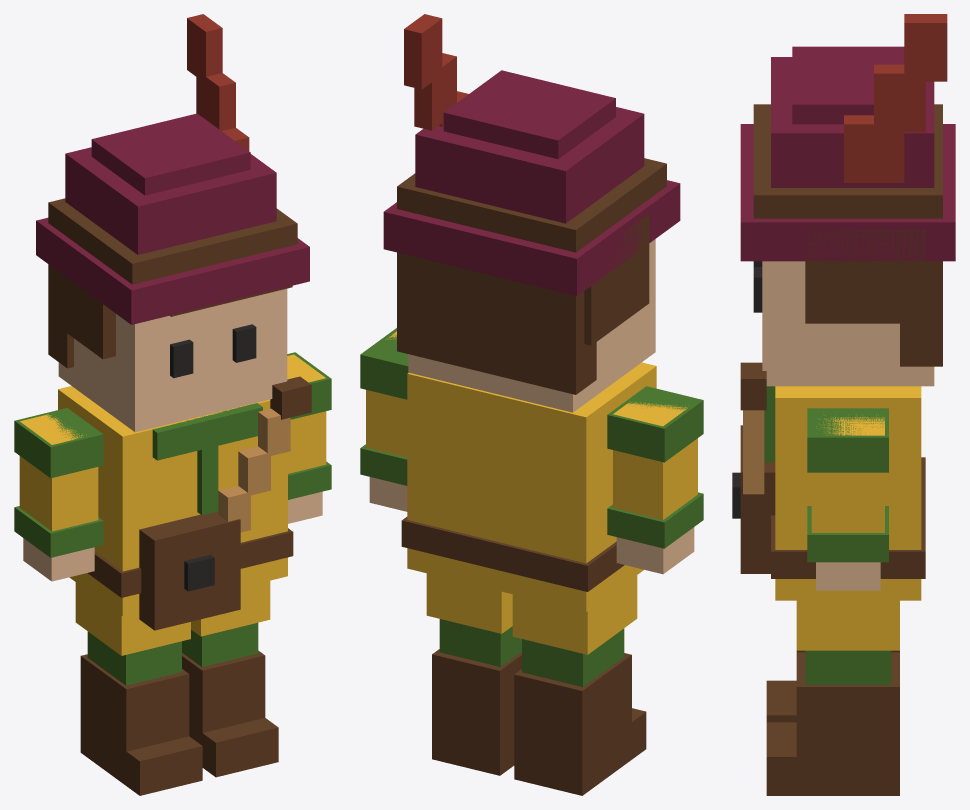
The model's file is H_MedMinstrel.fbx.
3 views of the same model, side by side, from view 1: azimuth 30°, elevation 25°; view 2: azimuth 150°, elevation 25°; view 3: azimuth 270°, elevation 25° (orthographic). The views are drawn at different scales.
Parts seen in each view (by area): view 1: M_Minstrel; view 2: M_Minstrel; view 3: M_Minstrel.
Part boxes in pixels (x1=…): M_Minstrel: x1=14, y1=14, x2=331, y2=795; M_Minstrel: x1=360, y1=14, x2=703, y2=795; M_Minstrel: x1=732, y1=14, x2=955, y2=795.
Size of the model in its own units: 0.85 by 1.99 by 0.52.
1 material, 1 textured.
